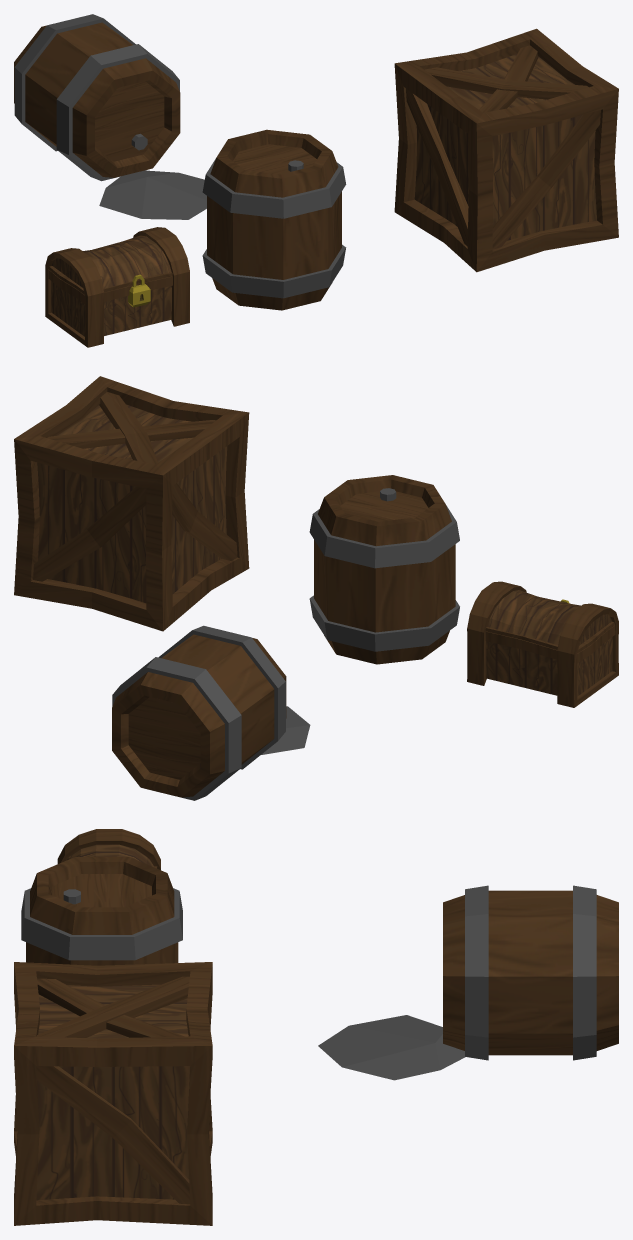
The model's file is storage.fbx.
The picture shows the model from 3 angles, top to bottom: view 1: azimuth 30°, elevation 25°; view 2: azimuth 150°, elevation 25°; view 3: azimuth 270°, elevation 25°; orthographic projection. The views are drawn at different scales.
Visible parts, largest first — view 1: box, barrel_2, barrel_1, chest, chest.001; view 2: box, barrel_1, barrel_2, chest, chest.001; view 3: box, barrel_2, barrel_1, chest.
Boxes of the visible parts, x1,y1,x2,y2 form: box: [394, 28, 618, 272]; barrel_2: [14, 14, 206, 219]; barrel_1: [202, 129, 346, 310]; chest: [45, 227, 189, 347]; chest.001: [48, 270, 172, 303]; box: [14, 376, 249, 631]; barrel_1: [309, 475, 459, 664]; barrel_2: [112, 625, 310, 800]; chest: [467, 581, 618, 707]; chest.001: [485, 625, 615, 663]; box: [14, 962, 212, 1225]; barrel_2: [318, 885, 618, 1080]; barrel_1: [21, 857, 182, 965]; chest: [57, 829, 160, 869].
Size of the model in its own units: 395 by 111 by 332.
